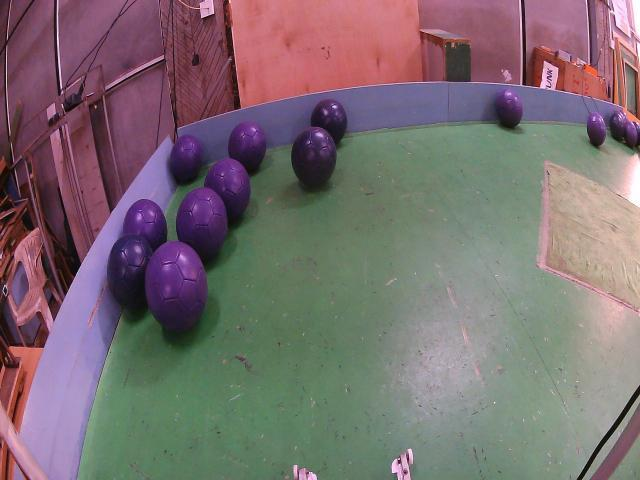jambhalya: (145, 240, 208, 332), (176, 187, 228, 260), (204, 158, 251, 222), (122, 198, 168, 252), (228, 122, 266, 172), (170, 135, 202, 182), (496, 90, 522, 128), (586, 112, 606, 147), (624, 120, 638, 148)
kaalyya: (106, 233, 152, 310), (291, 127, 336, 187), (311, 98, 348, 145), (609, 110, 628, 142)
